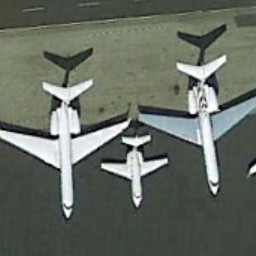Airplane: (1, 74, 127, 225), (139, 43, 255, 196), (98, 129, 171, 215)
